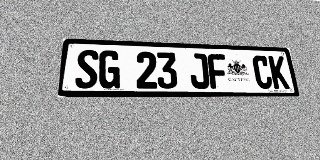2: (136, 51, 157, 89)
3: (157, 52, 178, 89)
C: (252, 55, 273, 89)
F: (207, 54, 229, 89)
G: (98, 50, 120, 89)
J: (189, 53, 210, 89)
K: (268, 56, 290, 89)
S: (75, 49, 99, 89)
